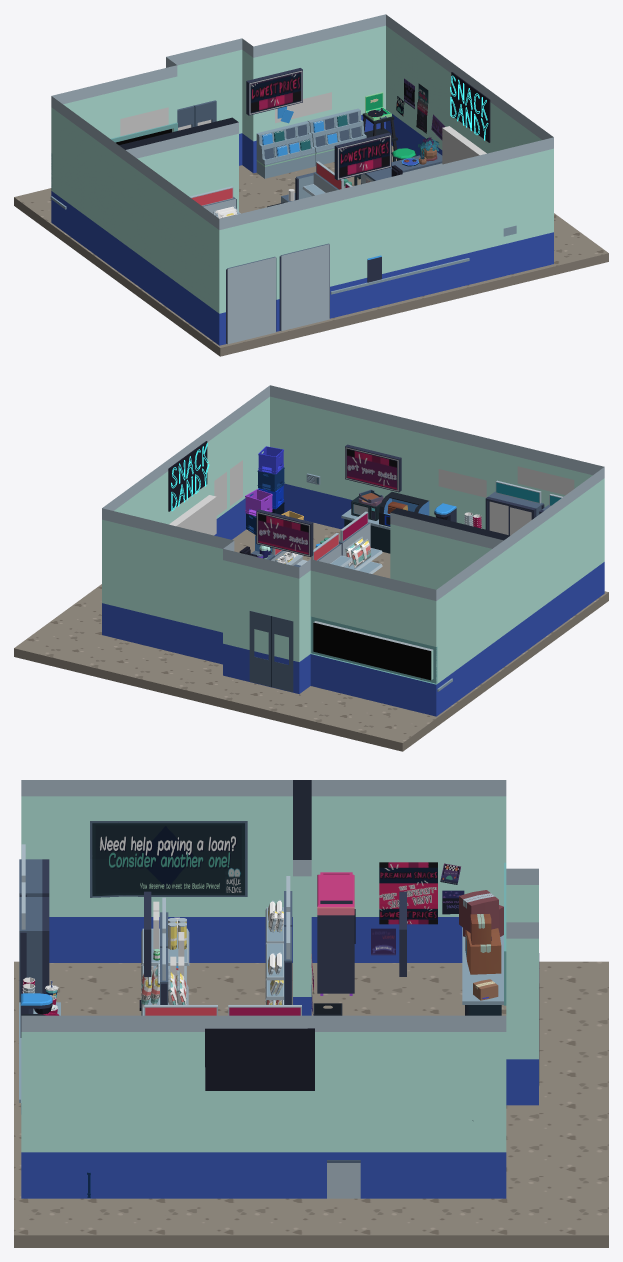
Rendered from INT_SnackDandy.fbx.
The picture shows the model from 3 angles, top to bottom: view 1: azimuth 30°, elevation 25°; view 2: azimuth 150°, elevation 25°; view 3: azimuth 270°, elevation 25°; orthographic projection. The views are drawn at different scales.
Visible parts, largest first — view 1: Cube.1481, Cube.1480, Cube.1498, Cube.1512, BookStands.002, Cube.1505, Cube.1526, BookStands.003, SnackDandy.011, Plane.014, Plane.009, Plane.146 (+9 smaller); view 2: Cube.1481, Cube.1480, Cube.1526, Cube.1505, SnackDandy.011, Cube.1498, SnackDandy.041, SnackDandy.040, Cube.1515, Plane.014, Plane.017, Plane.016 (+8 smaller); view 3: Cube.1481, Cube.1480, Plane.220, SnackDandy.011, Plane.148, SnackDandy.005, Cube.1498, Cube.1495, Cube.1500, Cube.1507, SnackDandy.035, Cube.1512 (+10 smaller).
Part boxes in pixels (x1,y1,x2,y2): Cube.1481: (51, 14, 553, 345); Cube.1480: (14, 145, 608, 356); Cube.1498: (279, 243, 329, 331); Cube.1512: (226, 256, 276, 344); BookStands.002: (256, 121, 315, 178); Cube.1505: (334, 132, 391, 180); Cube.1526: (246, 68, 302, 115); BookStands.003: (308, 108, 366, 165); SnackDandy.011: (451, 72, 490, 142); Plane.014: (442, 126, 486, 164); Plane.009: (120, 107, 168, 136); Plane.146: (396, 78, 428, 133); Cube.1481: (102, 385, 604, 716); Cube.1480: (14, 522, 608, 751); Cube.1526: (256, 509, 313, 556); Cube.1505: (345, 444, 401, 492); SnackDandy.011: (168, 441, 207, 511); Cube.1498: (485, 480, 544, 529); SnackDandy.041: (249, 611, 271, 686); SnackDandy.040: (271, 616, 293, 692); Cube.1515: (339, 511, 382, 573); Plane.014: (169, 495, 216, 535); Plane.017: (517, 466, 574, 495); Plane.016: (438, 469, 486, 497); Cube.1481: (21, 780, 538, 1198); Cube.1480: (14, 961, 608, 1247); Plane.220: (90, 821, 247, 897); SnackDandy.011: (205, 1028, 314, 1090); Plane.148: (371, 862, 464, 955); SnackDandy.005: (317, 872, 355, 995); Cube.1498: (19, 882, 49, 1002); Cube.1495: (462, 927, 503, 1015); Cube.1500: (265, 912, 292, 1004); Cube.1507: (327, 1160, 360, 1198); SnackDandy.035: (465, 928, 501, 974); Cube.1512: (19, 844, 49, 896).
Bounding box in the file's own units: 1610 × 540 × 1479.
